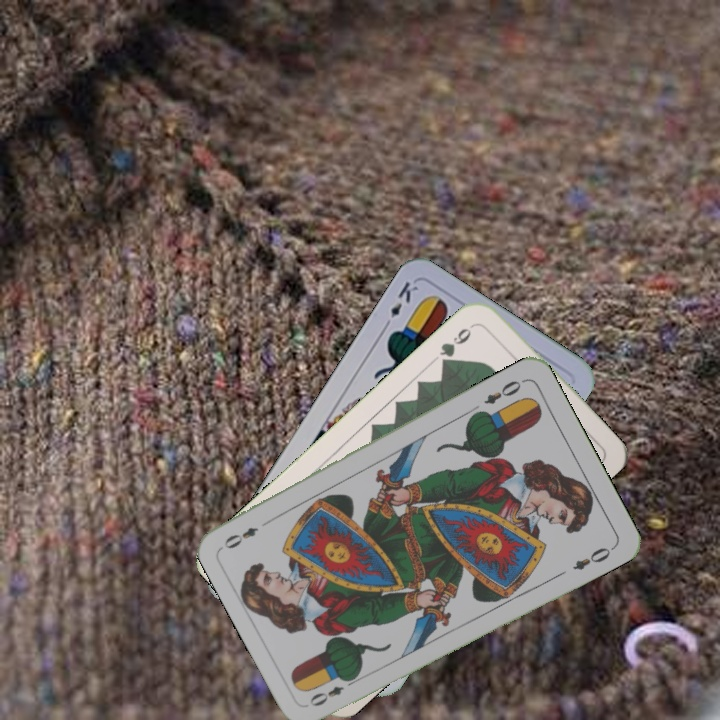EK: (379, 277, 421, 332)
EO: (305, 673, 360, 709), (480, 376, 524, 407)
G9: (435, 319, 479, 369)
